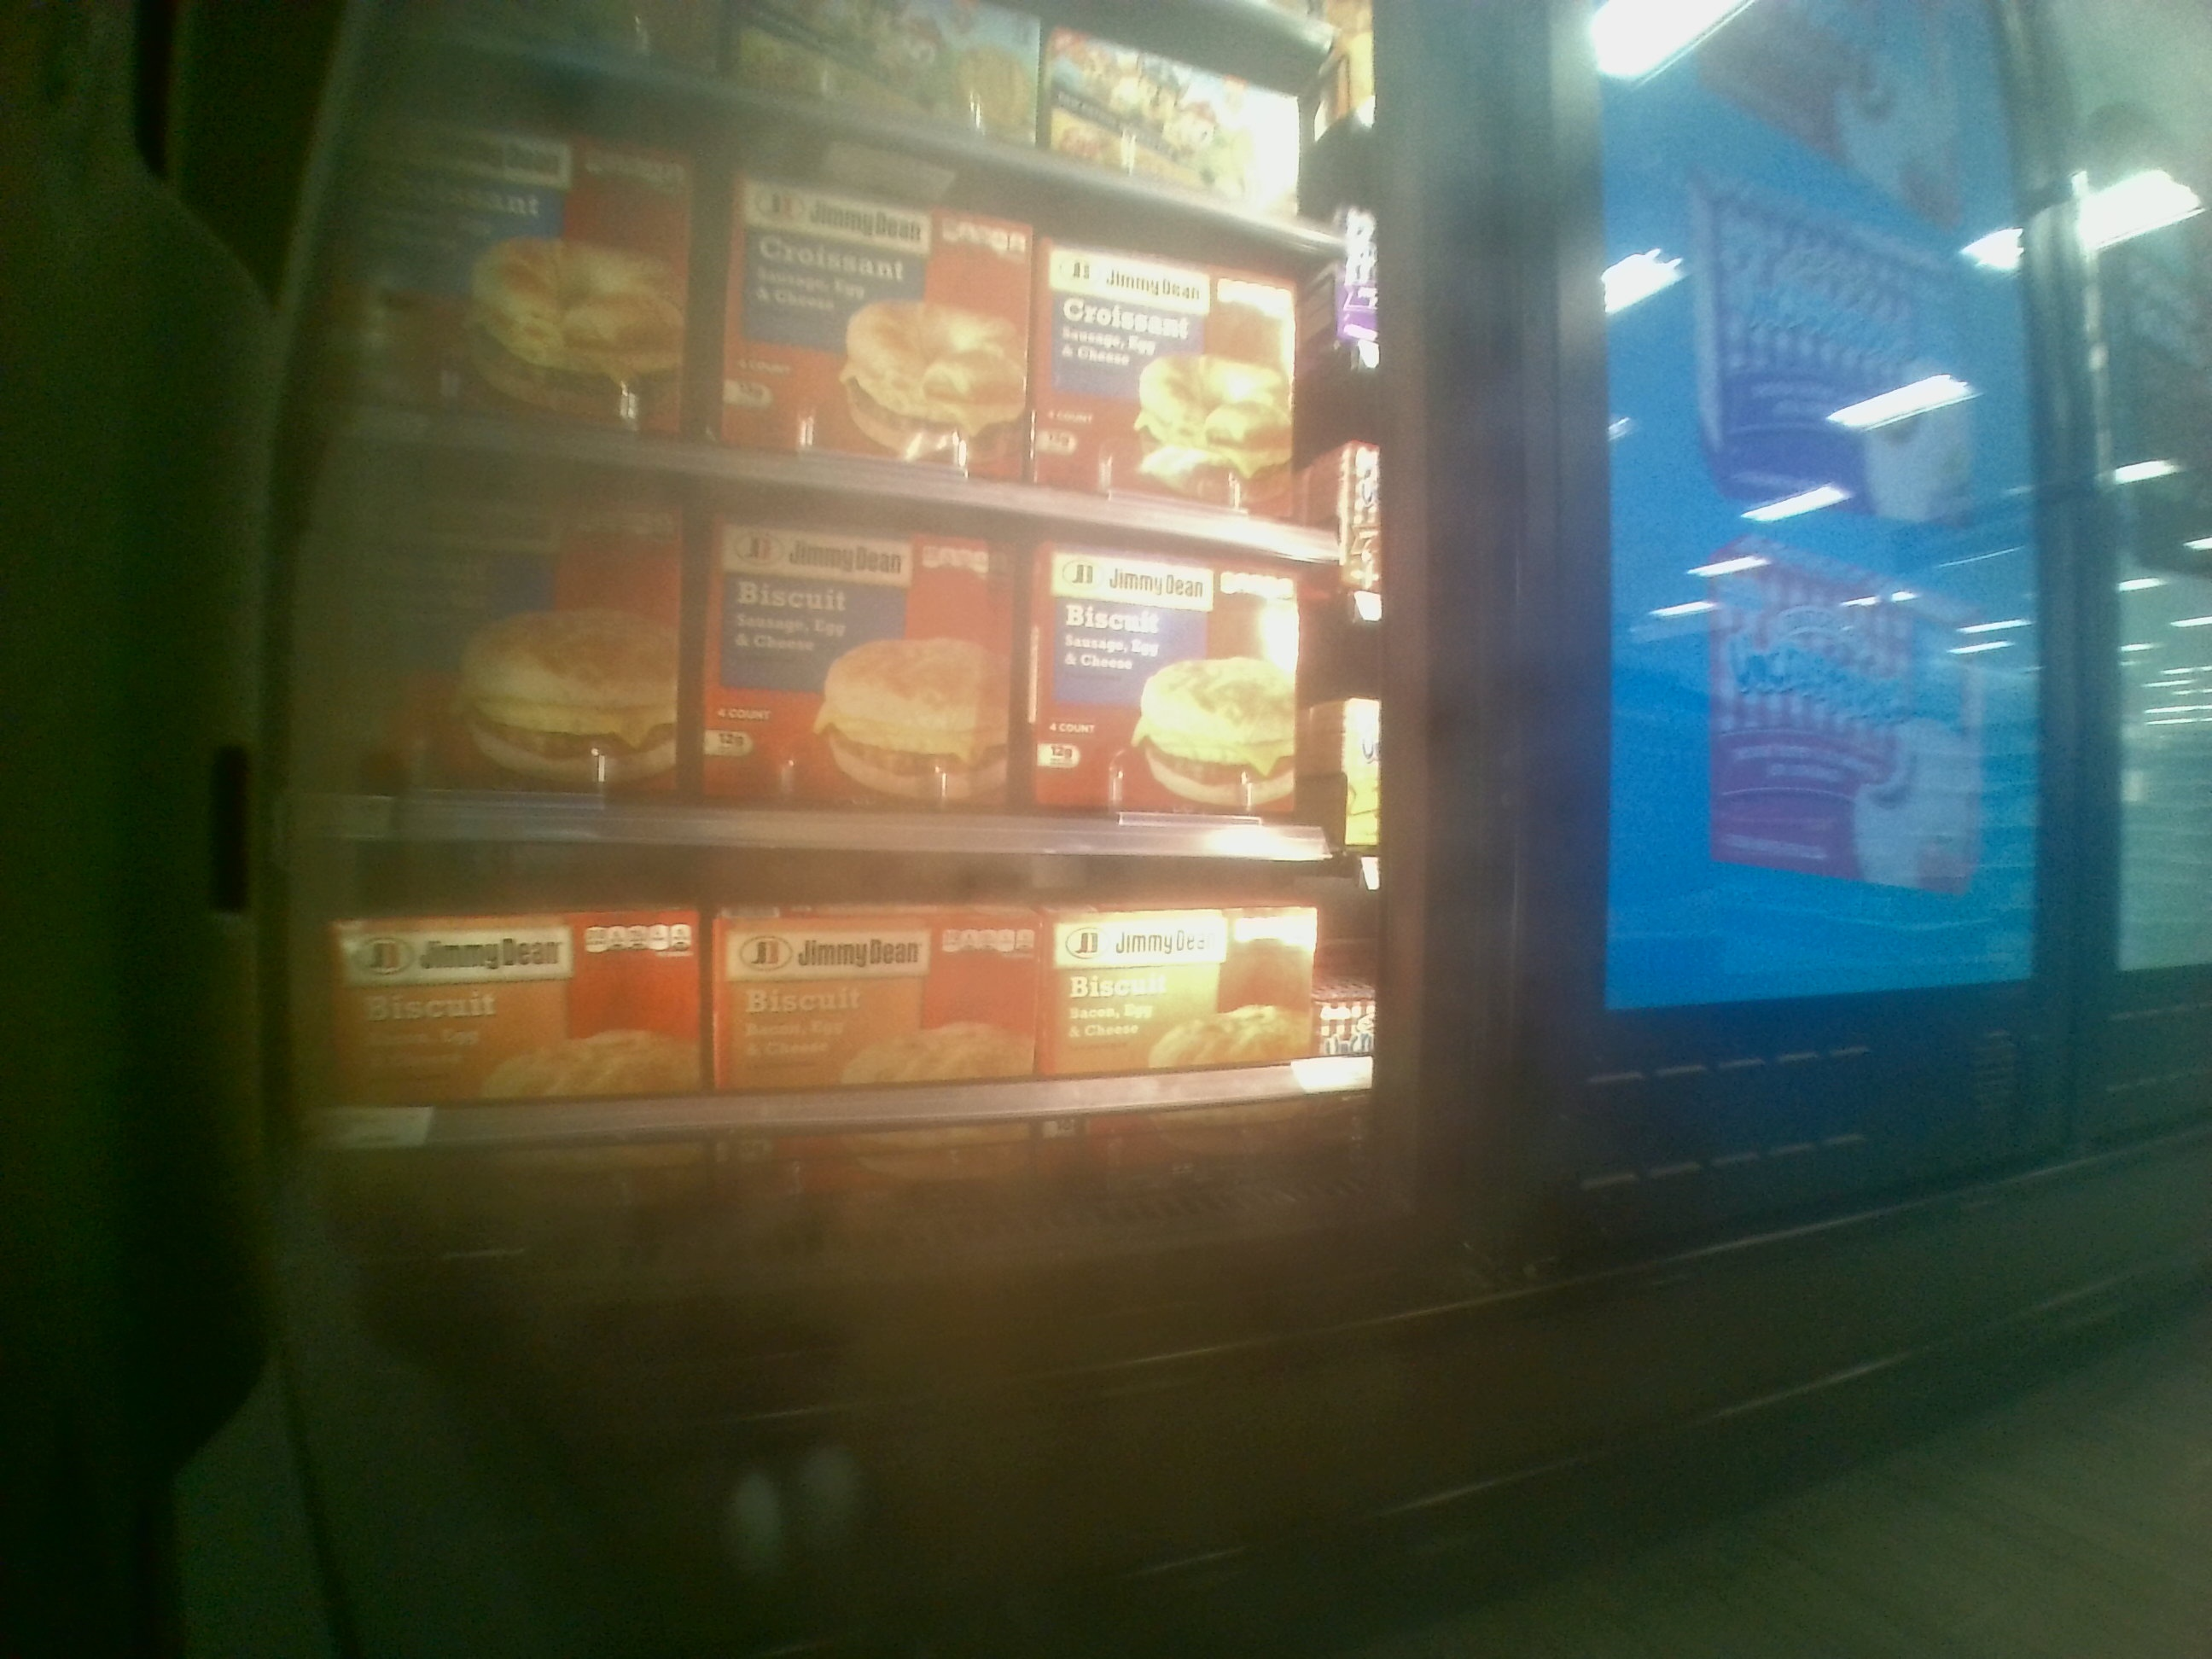shelf: (303, 415, 1366, 870), (296, 831, 1390, 1244)
